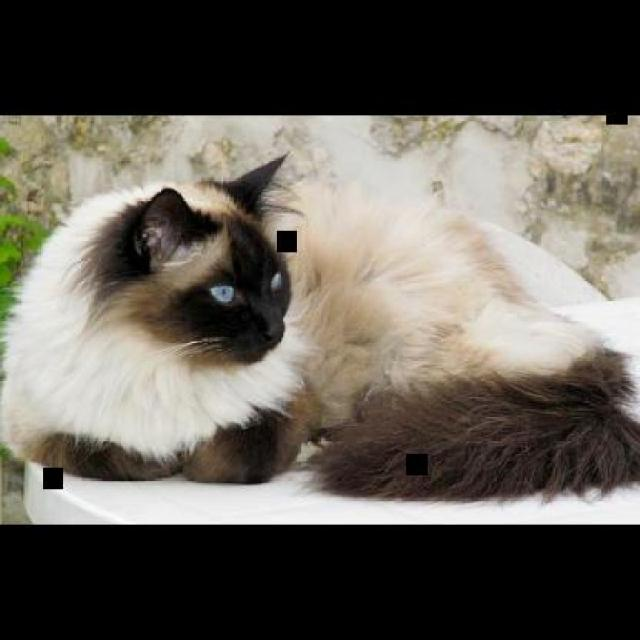unauthorized: (0, 149, 638, 501), (0, 150, 315, 483)
